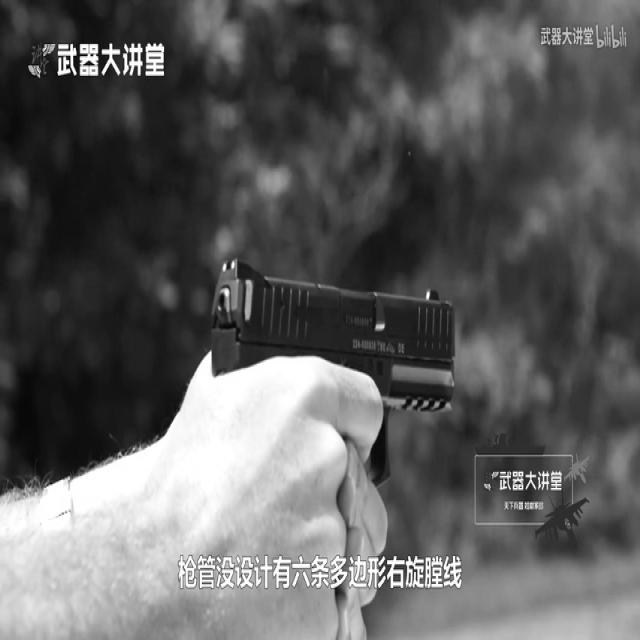Hand-Gun: (182, 163, 534, 640)
